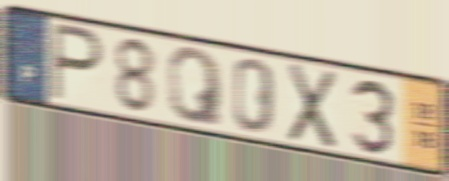0: (231, 56, 277, 136)
3: (347, 76, 397, 158)
8: (112, 35, 160, 117)
P: (48, 19, 107, 106)
Q: (165, 45, 226, 130)
X: (286, 59, 340, 153)
